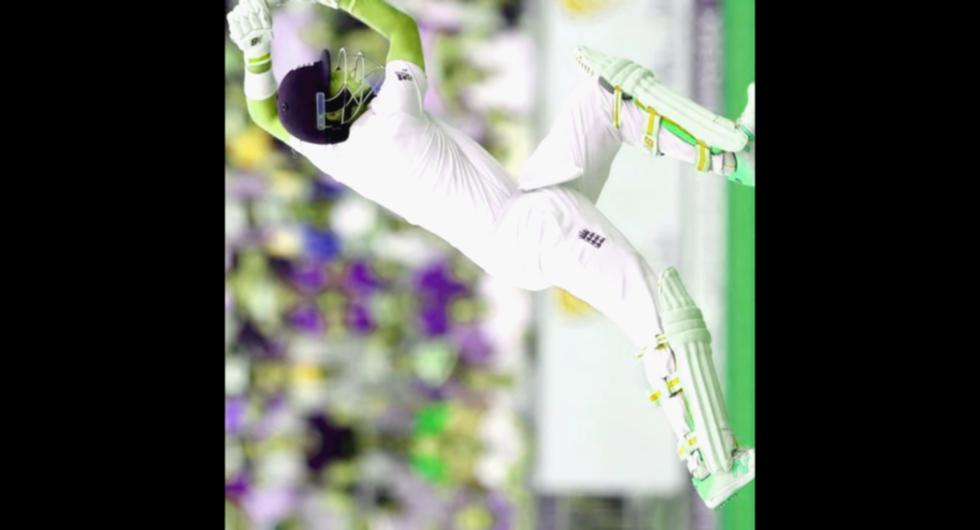batsman: (234, 0, 755, 530)
